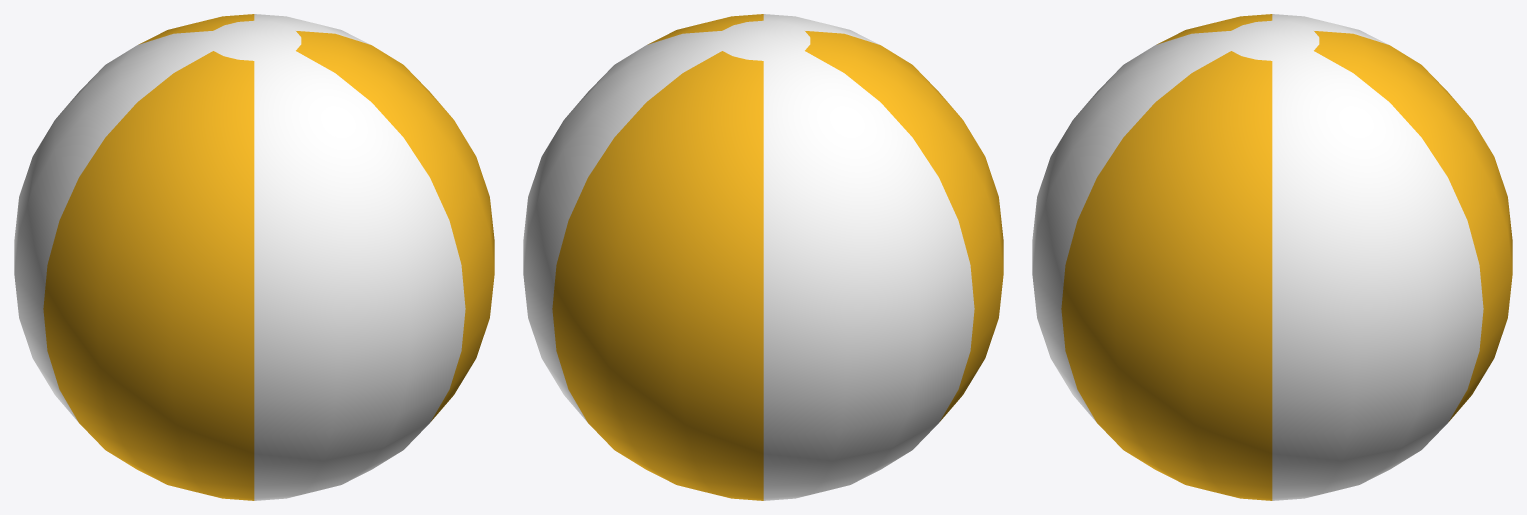
File: ball_teamYellow.glb
3 views of the same model, side by side, from view 1: azimuth 30°, elevation 25°; view 2: azimuth 150°, elevation 25°; view 3: azimuth 270°, elevation 25° (orthographic).
Parts seen in each view (by area): view 1: ball_teamYellow; view 2: ball_teamYellow; view 3: ball_teamYellow.
Boxes of the visible parts, left/top/right/bottom form: ball_teamYellow: left=14, top=14, right=494, bottom=500; ball_teamYellow: left=523, top=14, right=1003, bottom=500; ball_teamYellow: left=1032, top=14, right=1512, bottom=500.
Bounding box in the file's own units: 0.6 × 0.6 × 0.5909.
